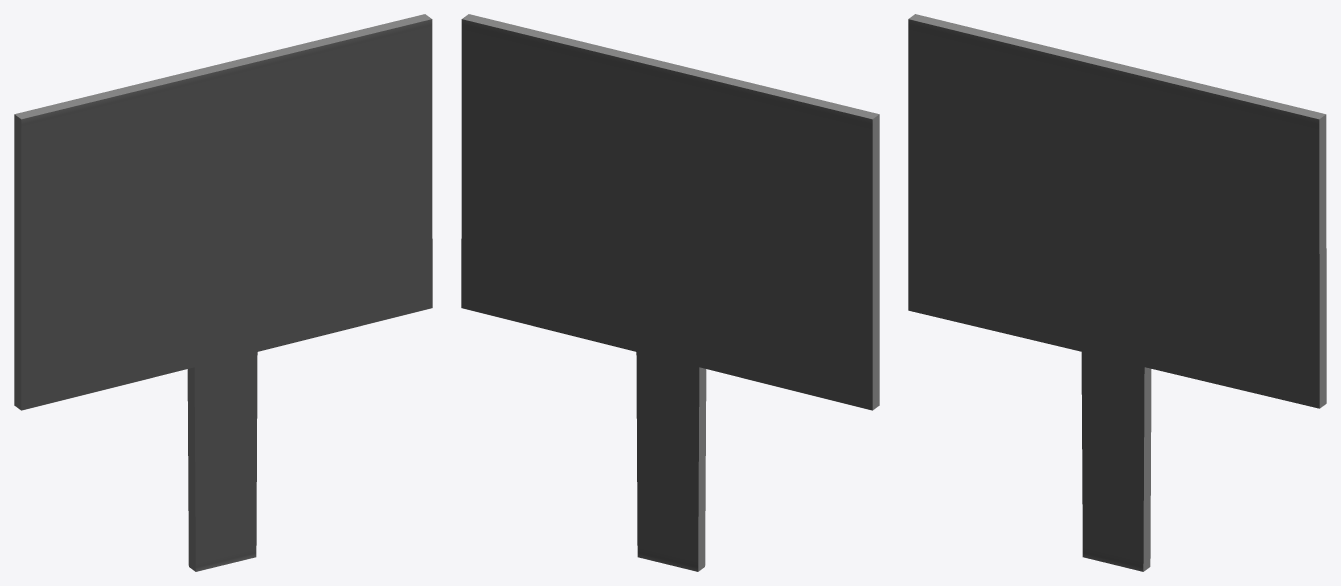
The model's file is SM_Sign.fbx.
The picture shows the model from 3 angles, left to right: view 1: azimuth 30°, elevation 25°; view 2: azimuth 150°, elevation 25°; view 3: azimuth 330°, elevation 25°; orthographic projection.
Visible parts, largest first — view 1: SM_Sign; view 2: SM_Sign; view 3: SM_Sign.
Part boxes in pixels (bbox=[...]): SM_Sign: bbox=[14, 14, 432, 571]; SM_Sign: bbox=[461, 14, 879, 571]; SM_Sign: bbox=[908, 14, 1326, 571].
Bounding box in the file's own units: 278 × 320 × 8.19.
